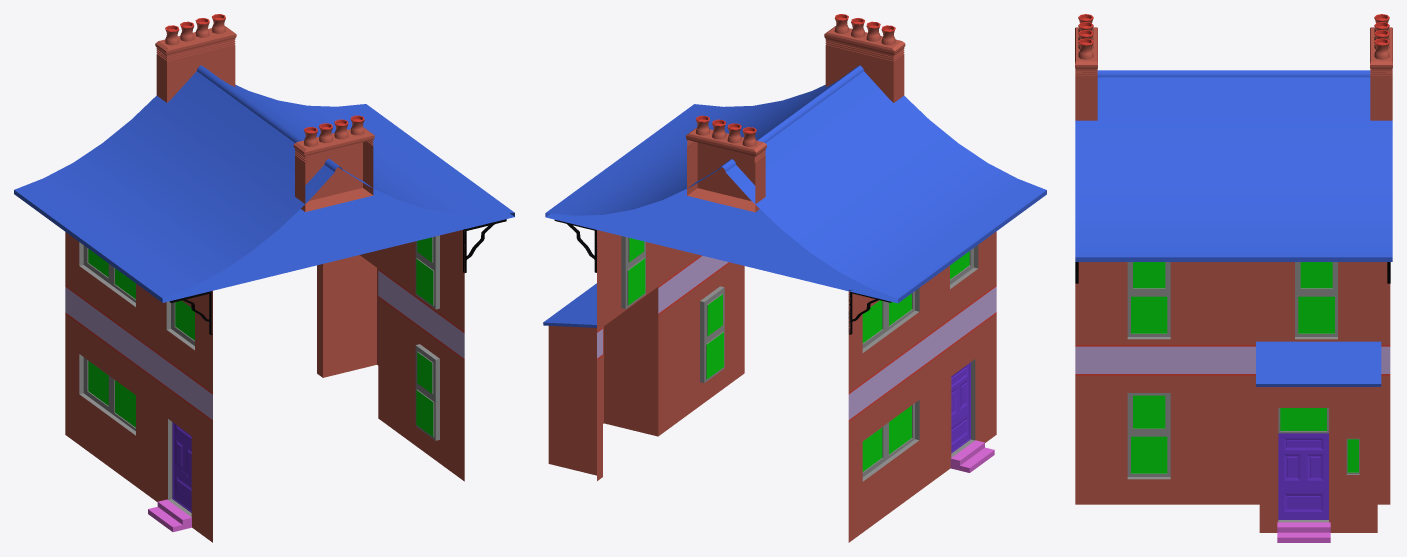
The model's file is Middle_House.fbx.
The picture shows the model from 3 angles, left to right: view 1: azimuth 30°, elevation 25°; view 2: azimuth 150°, elevation 25°; view 3: azimuth 270°, elevation 25°; orthographic projection. The views are drawn at different scales.
Parts seen in each view (by area): view 1: Middle_House; view 2: Middle_House; view 3: Middle_House.
Boxes of the visible parts, x1,y1,x2,y2 form: Middle_House: (14, 14, 514, 542); Middle_House: (543, 14, 1046, 542); Middle_House: (1075, 14, 1392, 542).
Size of the model in its own units: 616 by 895 by 876.
